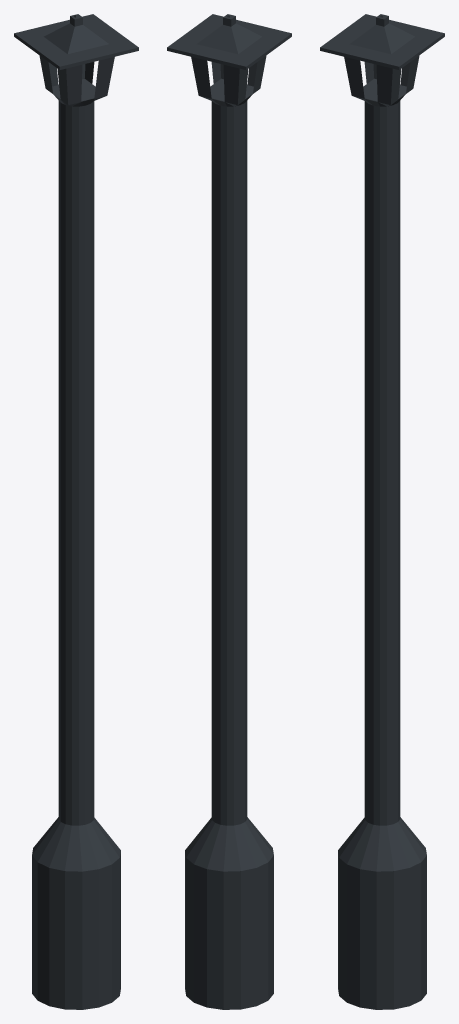
Rendered from Lamp.glb.
3 renders of one model, left to right at view 1: azimuth 30°, elevation 25°; view 2: azimuth 150°, elevation 25°; view 3: azimuth 330°, elevation 25°, orthographic.
Parts seen in each view (by area): view 1: Cylinder.001; view 2: Cylinder.001; view 3: Cylinder.001.
Boxes of the visible parts, left/top/right/bottom form: Cylinder.001: left=14, top=14, right=138, bottom=1009; Cylinder.001: left=167, top=14, right=291, bottom=1009; Cylinder.001: left=320, top=14, right=444, bottom=1009.
Bounding box in the file's own units: 0.5095 × 6 × 0.5095.
1 material, 1 textured.
